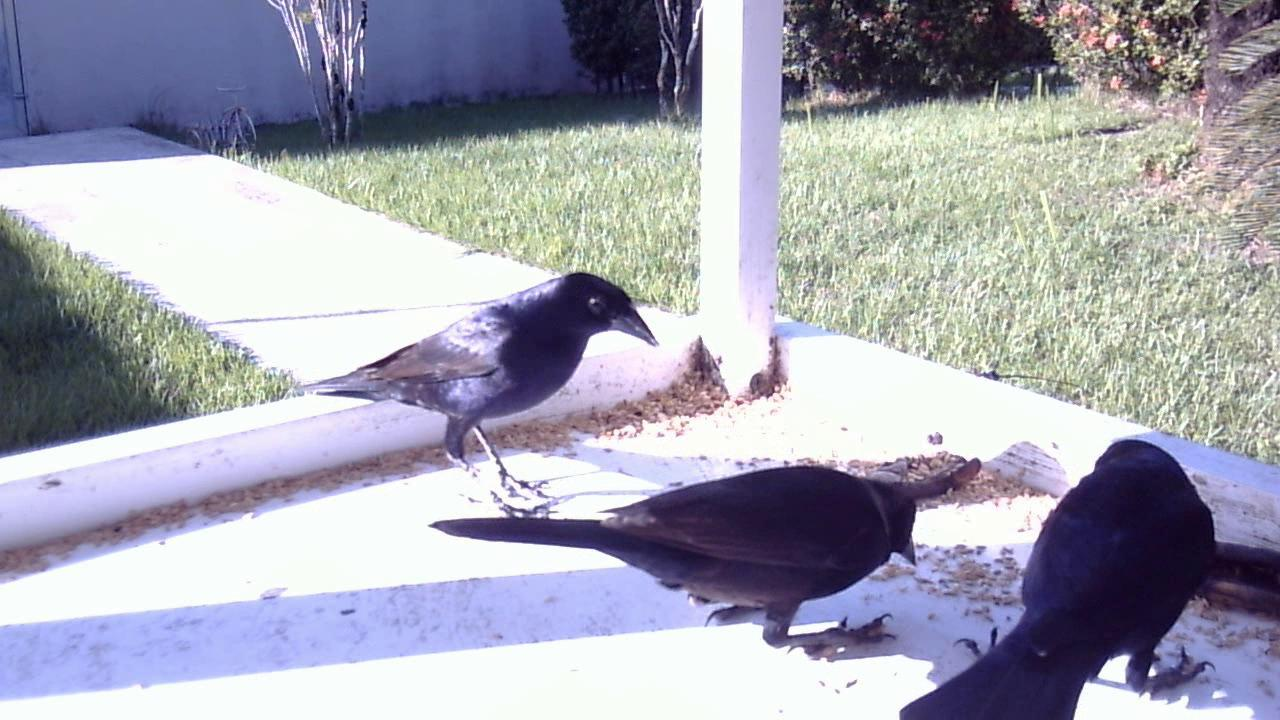chupim: (439, 431, 1021, 669), (893, 423, 1239, 720), (296, 256, 668, 524)
